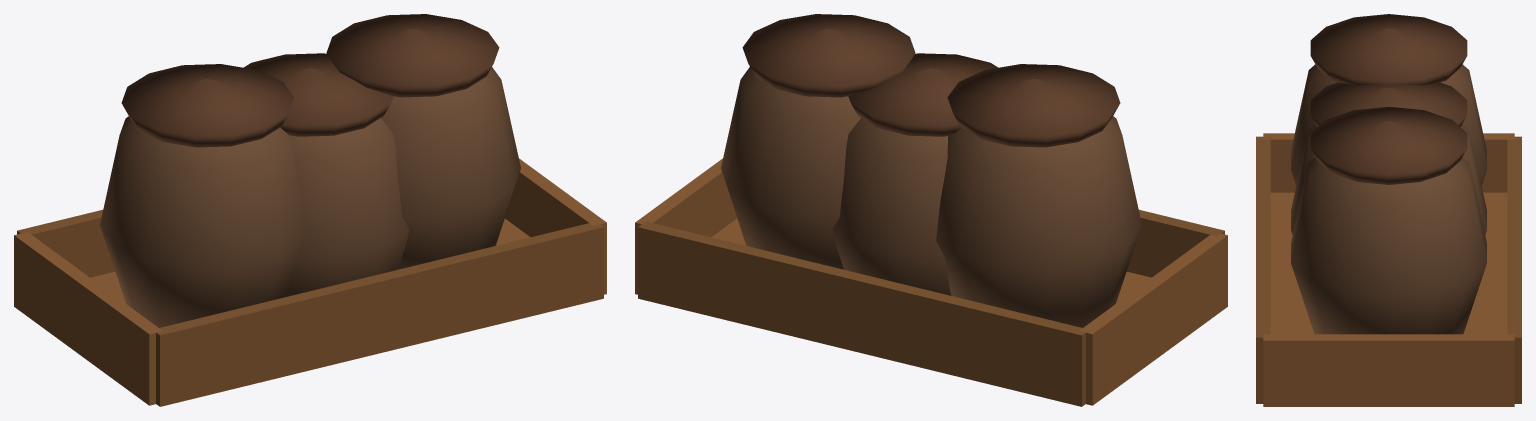
File: Proc_Doenjang.fbx
3 renders of one model, left to right at view 1: azimuth 30°, elevation 25°; view 2: azimuth 150°, elevation 25°; view 3: azimuth 270°, elevation 25°, orthographic. The views are drawn at different scales.
Parts seen in each view (by area): view 1: Proc_Doenjang__Stack, Proc_Doenjang; view 2: Proc_Doenjang__Stack, Proc_Doenjang; view 3: Proc_Doenjang__Stack, Proc_Doenjang.
Part boxes in pixels (x1=…): Proc_Doenjang__Stack: x1=14, y1=14, x2=606, y2=406; Proc_Doenjang: x1=244, y1=53, x2=409, y2=295; Proc_Doenjang__Stack: x1=635, y1=14, x2=1227, y2=406; Proc_Doenjang: x1=832, y1=53, x2=997, y2=295; Proc_Doenjang__Stack: x1=1256, y1=14, x2=1521, y2=406; Proc_Doenjang: x1=1291, y1=82, x2=1486, y2=234.
Bounding box in the file's own units: 0.268 × 0.138 × 0.1452.
